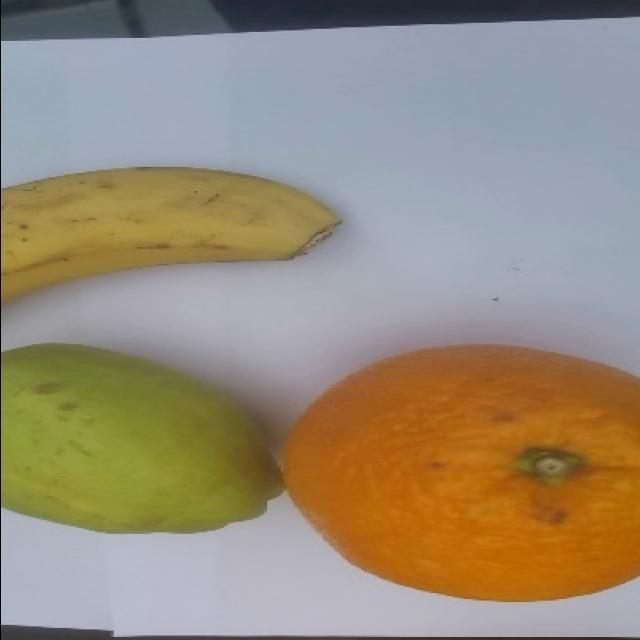Banana: (0, 164, 343, 304)
Orange: (281, 342, 639, 602)
